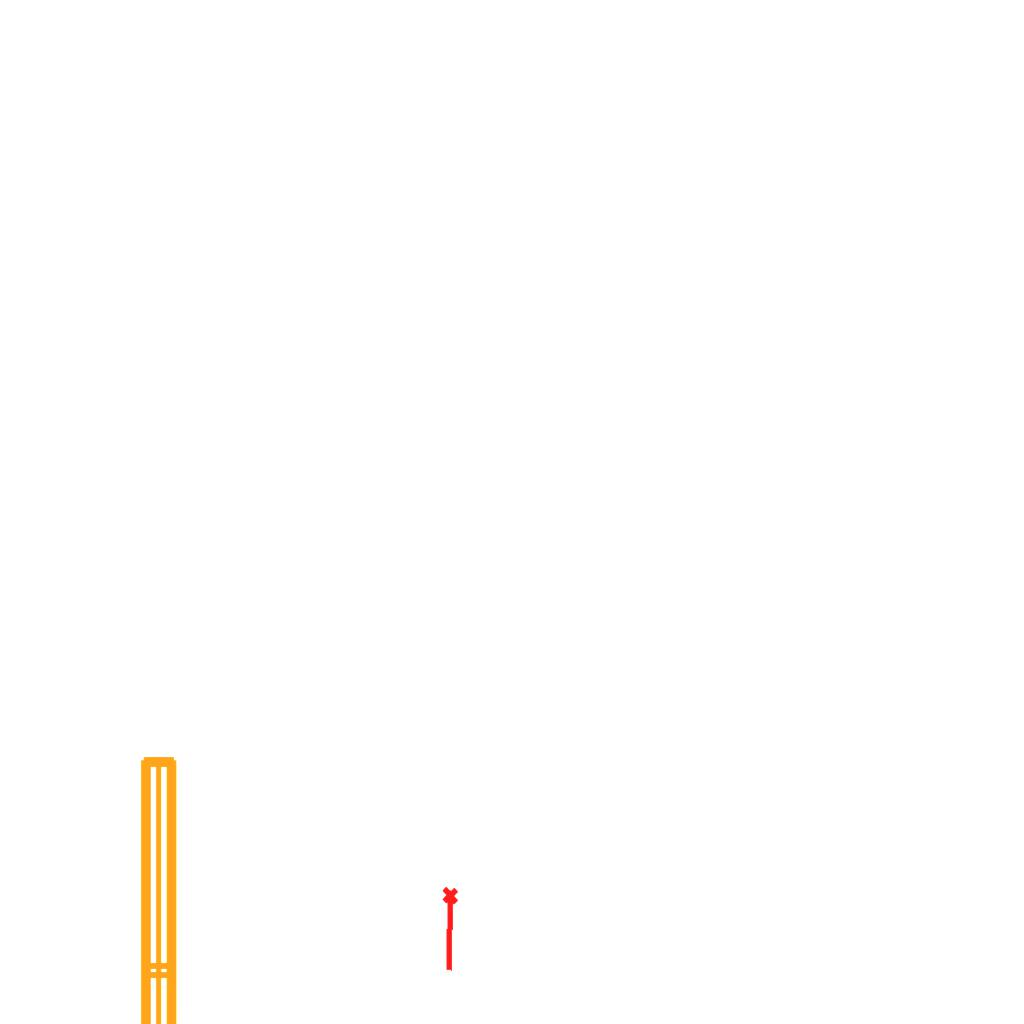ASR_Ansaugoeffnung: (438, 885, 464, 974)
Ambulanz_Pendelleuchte_LED: (128, 746, 240, 1024)
